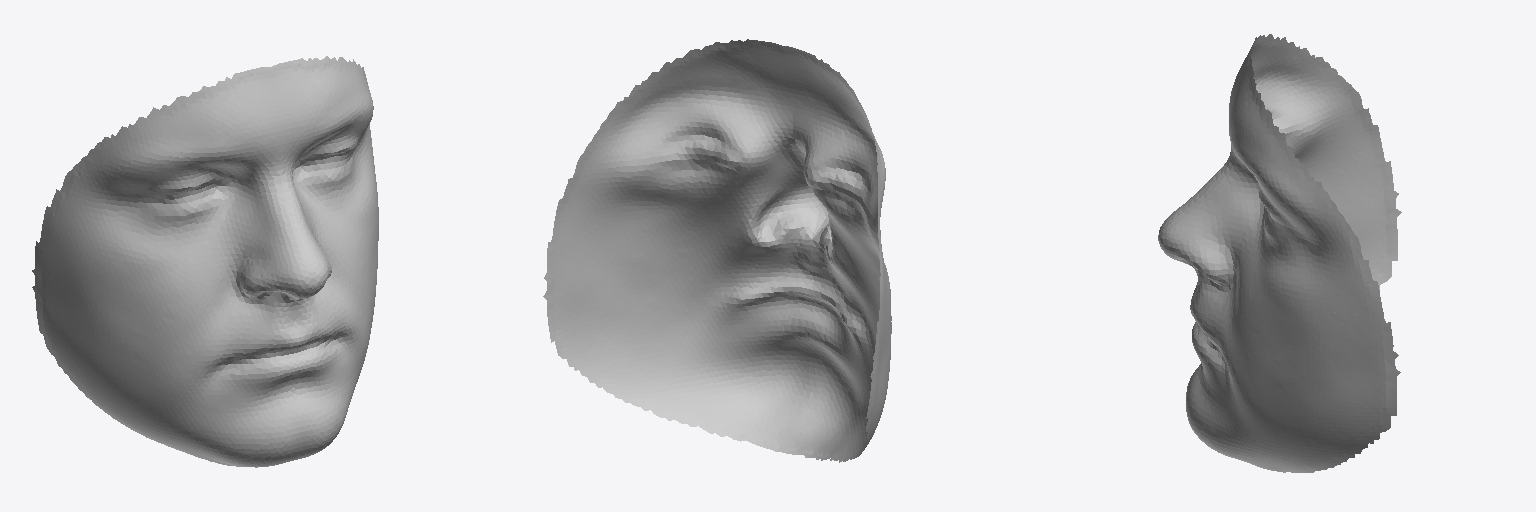
Rendered from SIMPOP_06.obj.
3 renders of one model, left to right at view 1: azimuth 30°, elevation 25°; view 2: azimuth 150°, elevation 25°; view 3: azimuth 270°, elevation 25°, orthographic.
Parts seen in each view (by area): view 1: SIMPOP_06; view 2: SIMPOP_06; view 3: SIMPOP_06.
Boxes of the visible parts, box(x1,y1,x2,y2) form: SIMPOP_06: box(32, 56, 378, 467); SIMPOP_06: box(543, 39, 891, 462); SIMPOP_06: box(1158, 34, 1401, 472).
Size of the model in its own units: 151 by 176 by 96.61.